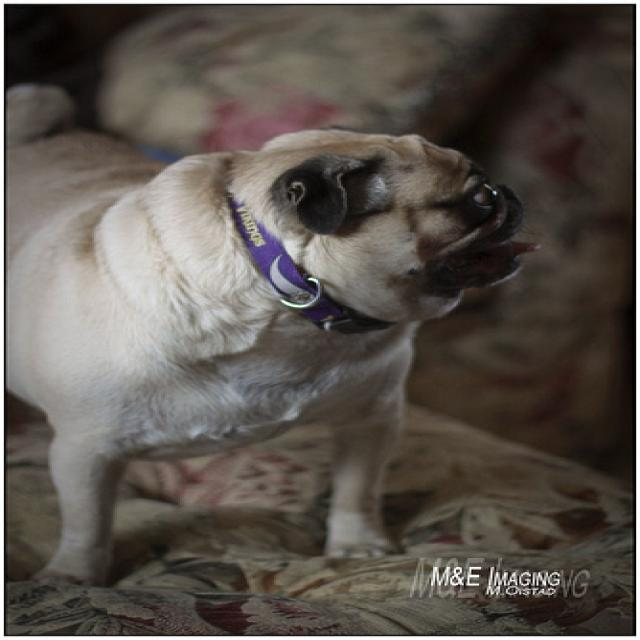dog-pug: (2, 78, 554, 595)
